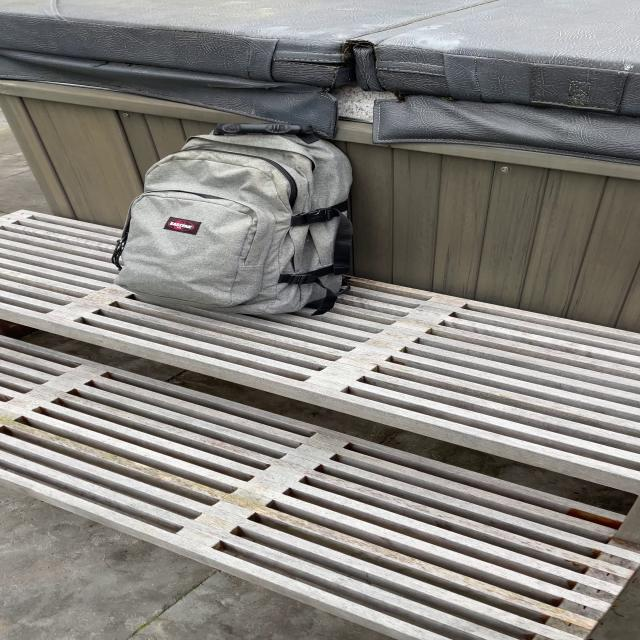backpack: (105, 117, 366, 318)
